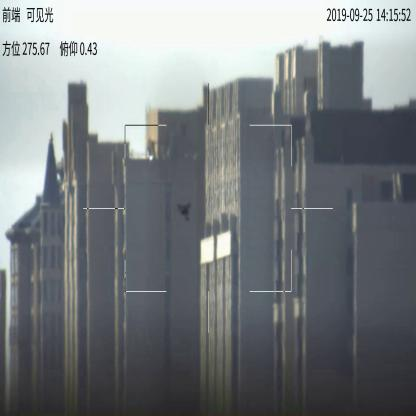uav: (178, 199, 190, 220)
